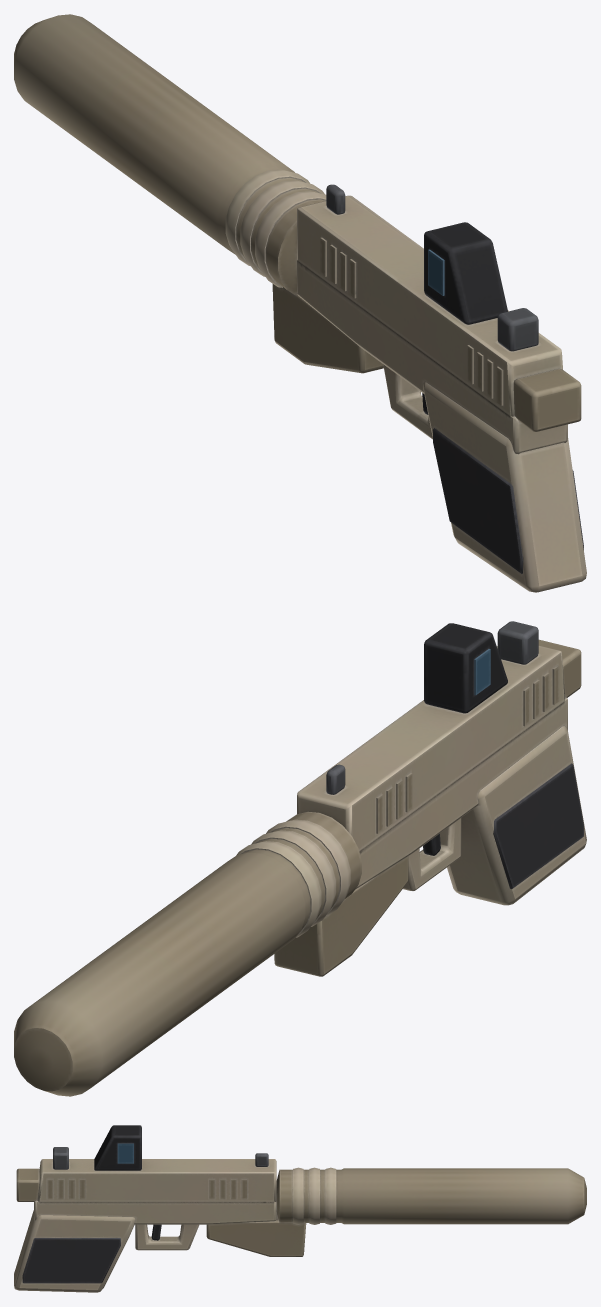
Rendered from AT_FNPR.fbx.
3 renders of one model, top to bottom at view 1: azimuth 30°, elevation 25°; view 2: azimuth 150°, elevation 25°; view 3: azimuth 270°, elevation 25°, orthographic. The views are drawn at different scales.
Visible parts, largest first — view 1: AT_FNPR_export; view 2: AT_FNPR_export; view 3: AT_FNPR_export.
Part boxes in pixels (x1,y1,x2,y2): AT_FNPR_export: (14,14,586,592); AT_FNPR_export: (14,621,586,1096); AT_FNPR_export: (14,1125,586,1292).
Bounding box in the file's own units: 0.0366 × 0.3651 × 0.1099.
